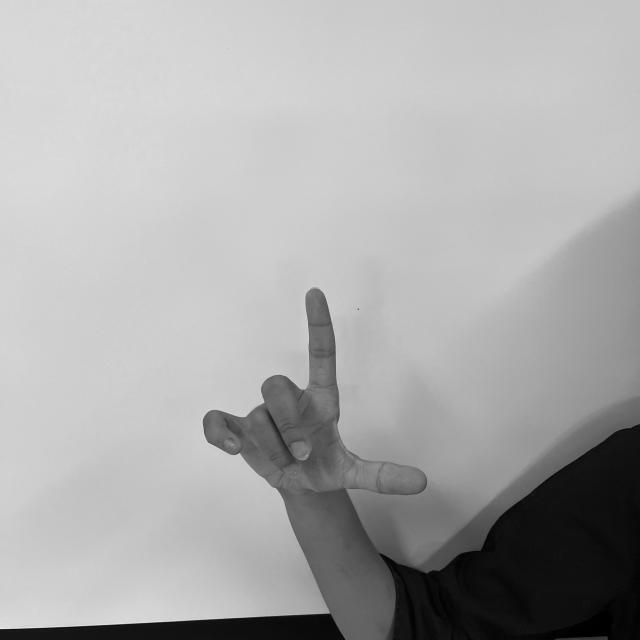Letra L: (200, 284, 433, 498)
